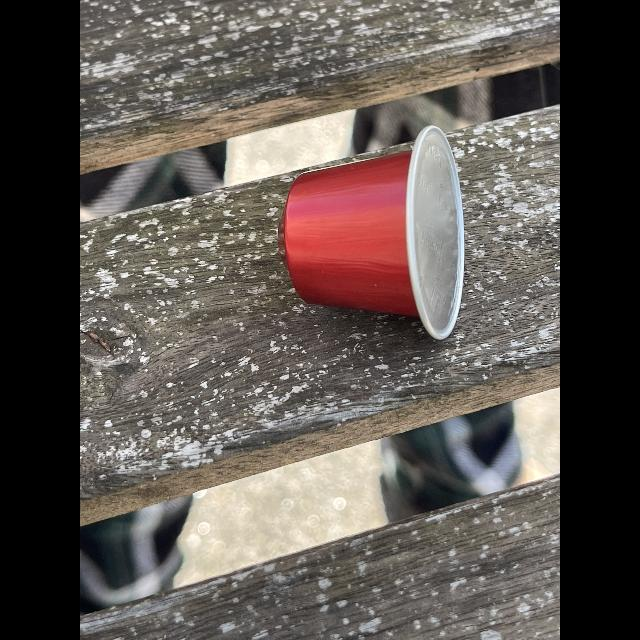intact_capsule: (276, 114, 492, 358)
